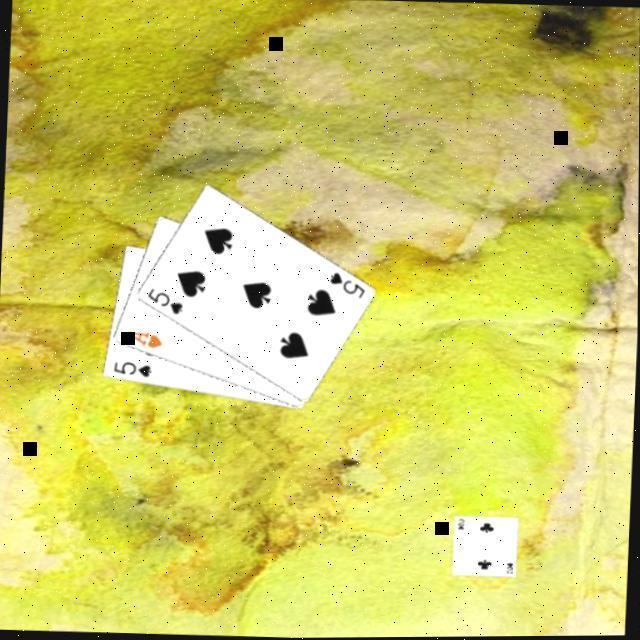5S: (144, 285, 187, 318), (326, 269, 369, 302), (110, 359, 154, 380)
AH: (123, 329, 166, 352)
